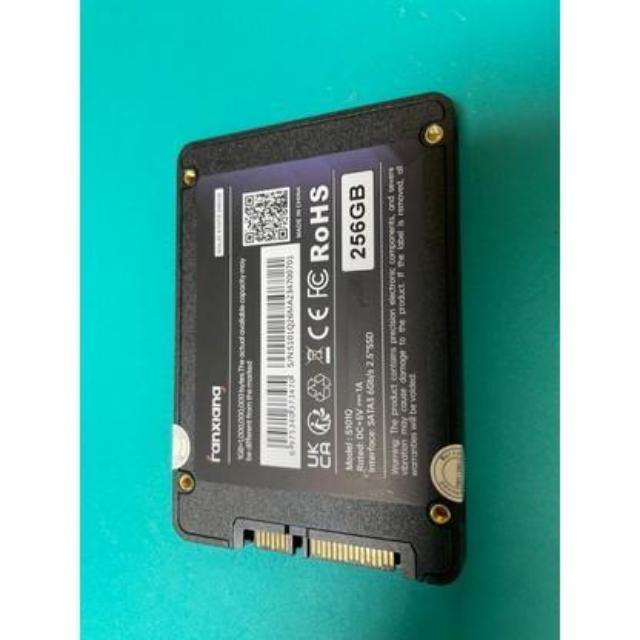DISK: (160, 90, 478, 587)
